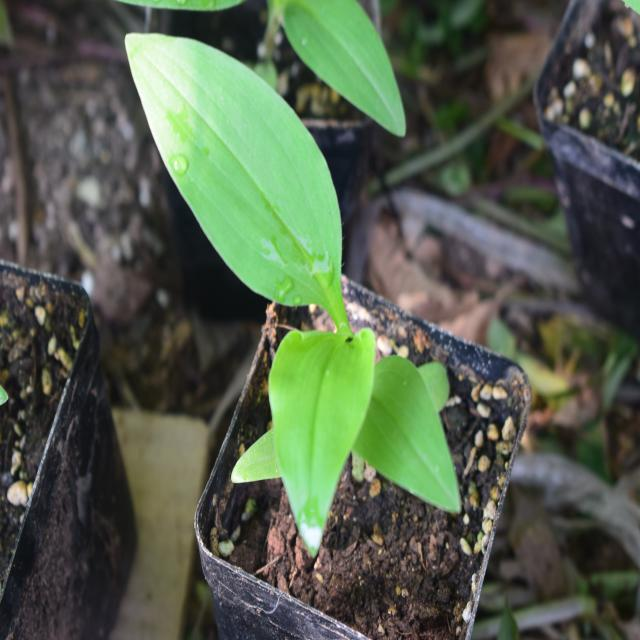Common Dayflower: (129, 31, 448, 552)
